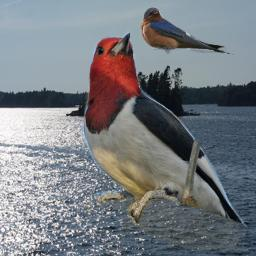Swallow: (140, 7, 234, 55)
Woodpecker: (75, 21, 256, 250)
